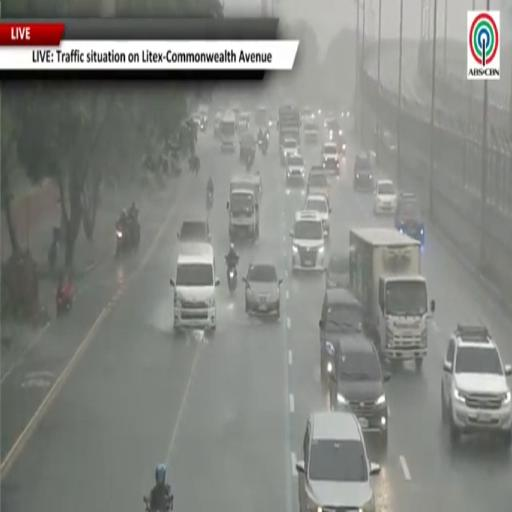car: (441, 325, 511, 446), (296, 411, 380, 511), (329, 333, 390, 447), (319, 288, 363, 382), (243, 264, 282, 318), (290, 212, 325, 270), (394, 192, 425, 245), (304, 195, 331, 237), (325, 252, 350, 287), (178, 219, 211, 243), (306, 167, 329, 201), (374, 180, 397, 214), (354, 153, 373, 191), (286, 154, 305, 186), (322, 142, 339, 174), (280, 138, 299, 165), (324, 117, 344, 142), (240, 132, 255, 162), (303, 118, 318, 143), (255, 106, 269, 129), (237, 112, 250, 133), (214, 112, 223, 139), (337, 135, 347, 156), (301, 107, 314, 122), (341, 110, 350, 119)
motorcycle: (116, 221, 139, 257), (56, 284, 74, 316), (143, 496, 173, 511), (225, 256, 237, 293), (227, 266, 237, 293), (258, 138, 267, 155), (246, 152, 254, 171), (207, 190, 213, 212), (261, 139, 267, 155), (200, 120, 207, 132)
truck: (349, 228, 435, 370), (227, 187, 259, 241), (278, 105, 300, 147), (220, 110, 236, 152)
